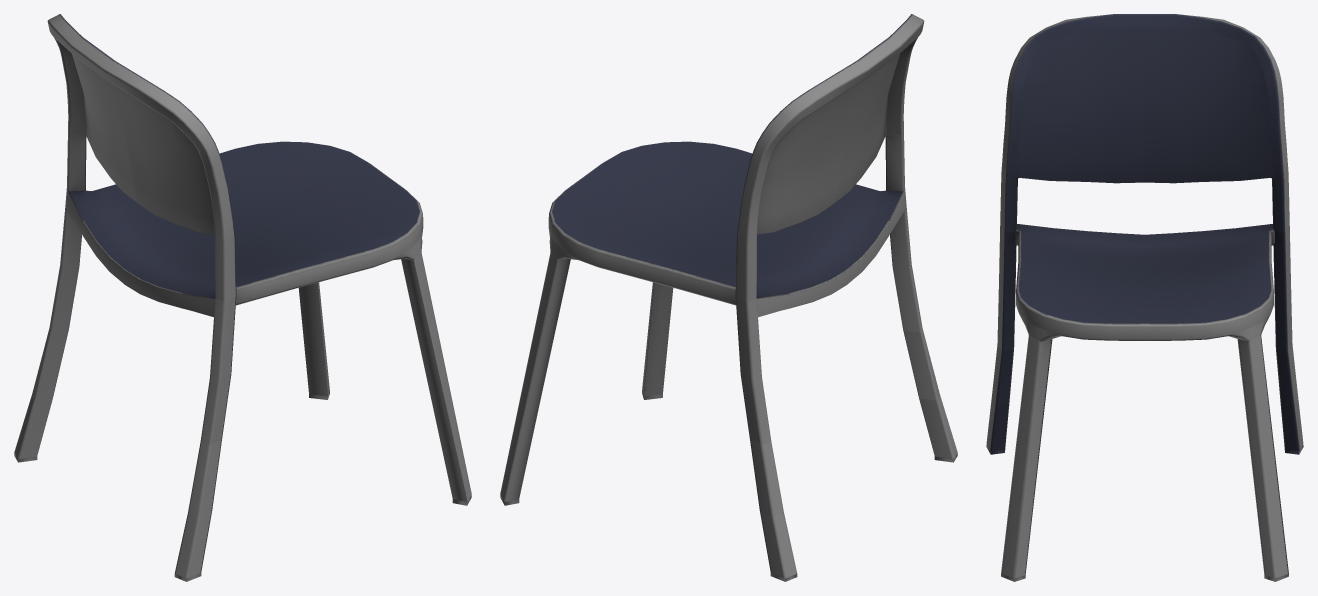
Rendered from ChairMetal.fbx.
The picture shows the model from 3 angles, left to right: view 1: azimuth 30°, elevation 25°; view 2: azimuth 150°, elevation 25°; view 3: azimuth 270°, elevation 25°; orthographic projection. The views are drawn at different scales.
Parts seen in each view (by area): view 1: ChairMetal; view 2: ChairMetal; view 3: ChairMetal.
Part boxes in pixels (x1=…): ChairMetal: x1=14, y1=14, x2=471, y2=581; ChairMetal: x1=500, y1=14, x2=957, y2=581; ChairMetal: x1=986, y1=14, x2=1303, y2=581.
Bounding box in the file's own units: 54.82 × 78.61 × 52.25.
